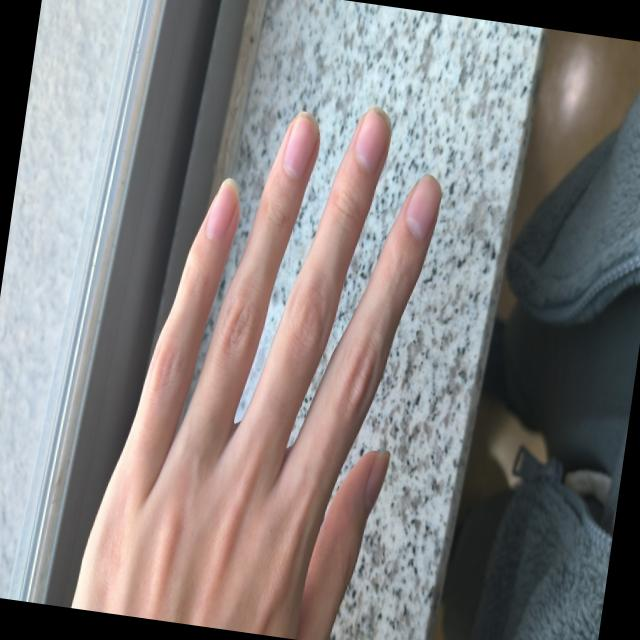Nail: (354, 107, 390, 173), (284, 112, 319, 179), (406, 174, 441, 239), (205, 179, 239, 241), (365, 450, 391, 520)
